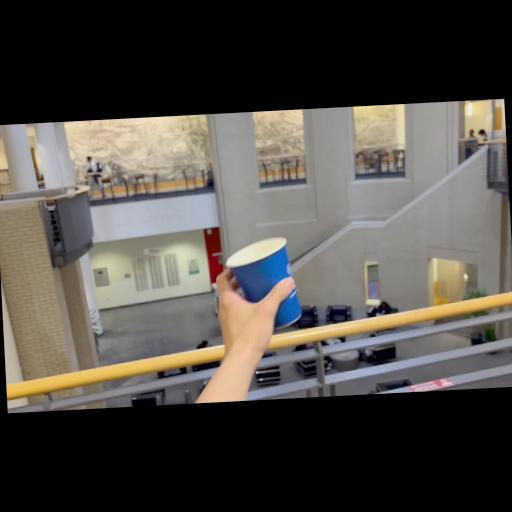lp_paper_cup: (223, 235, 302, 332)
